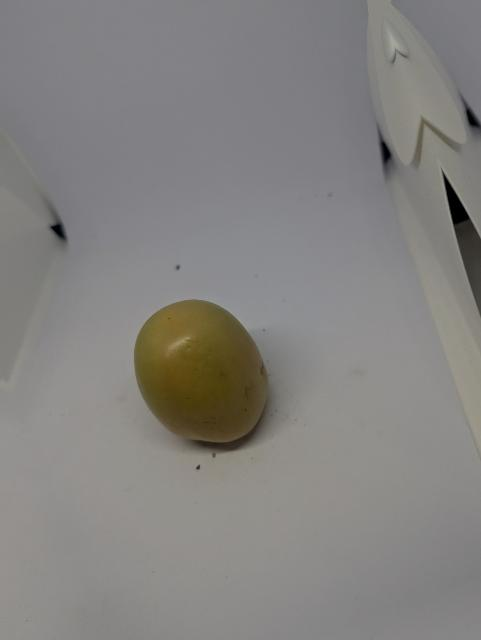breaker: (134, 296, 273, 445)
